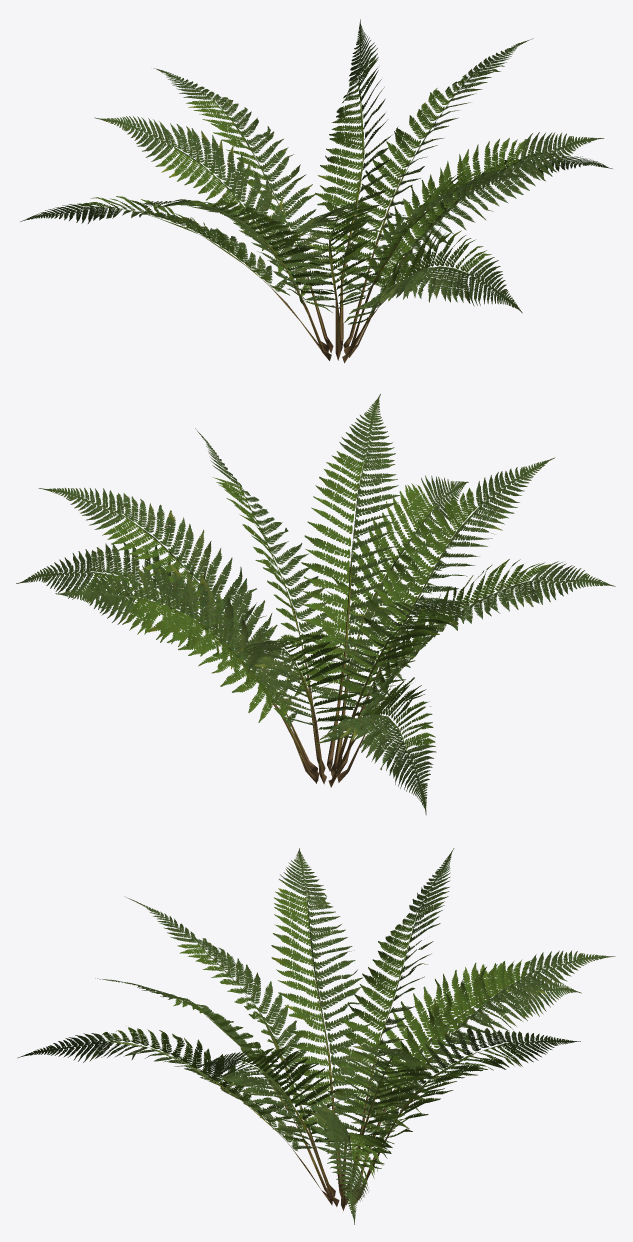
The model's file is fern-male.glb.
3 renders of one model, top to bottom at view 1: azimuth 30°, elevation 25°; view 2: azimuth 150°, elevation 25°; view 3: azimuth 270°, elevation 25°, orthographic. The views are drawn at different scales.
Visible parts, largest first — view 1: plant; view 2: plant; view 3: plant.
Part boxes in pixels (left/top/right/bottom): plant: left=20, top=19, right=612, bottom=363; plant: left=16, top=394, right=615, bottom=815; plant: left=17, top=848, right=615, bottom=1224.
Size of the model in its own units: 2.18 by 0.9999 by 2.07.
Materials: 1 (1 with a texture image).
